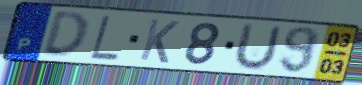8: (183, 21, 222, 67)
9: (278, 25, 322, 76)
D: (39, 10, 90, 60)
K: (137, 17, 182, 65)
L: (88, 14, 120, 63)
U: (230, 21, 285, 72)
